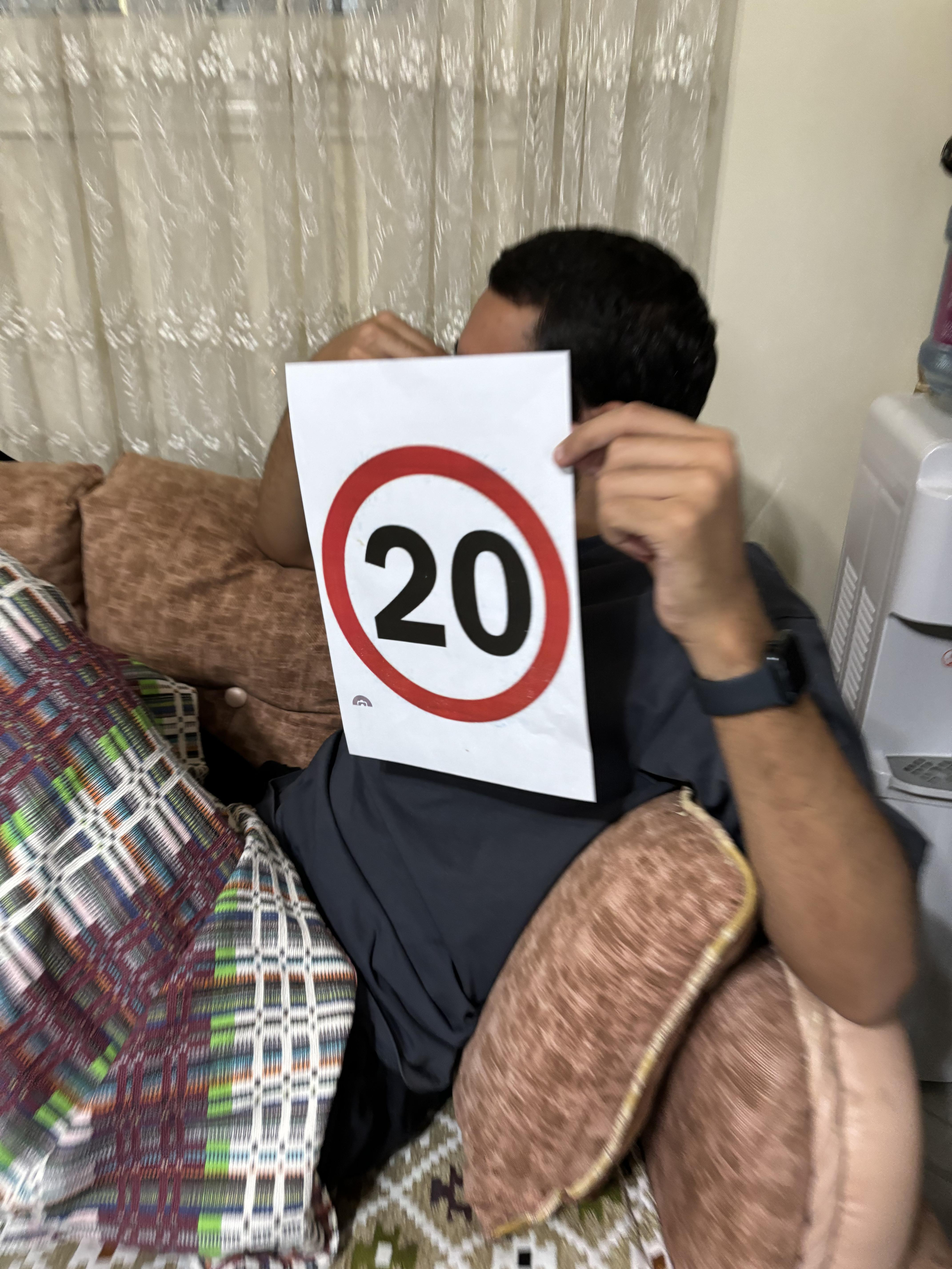20-Speed: (315, 438, 576, 726)
